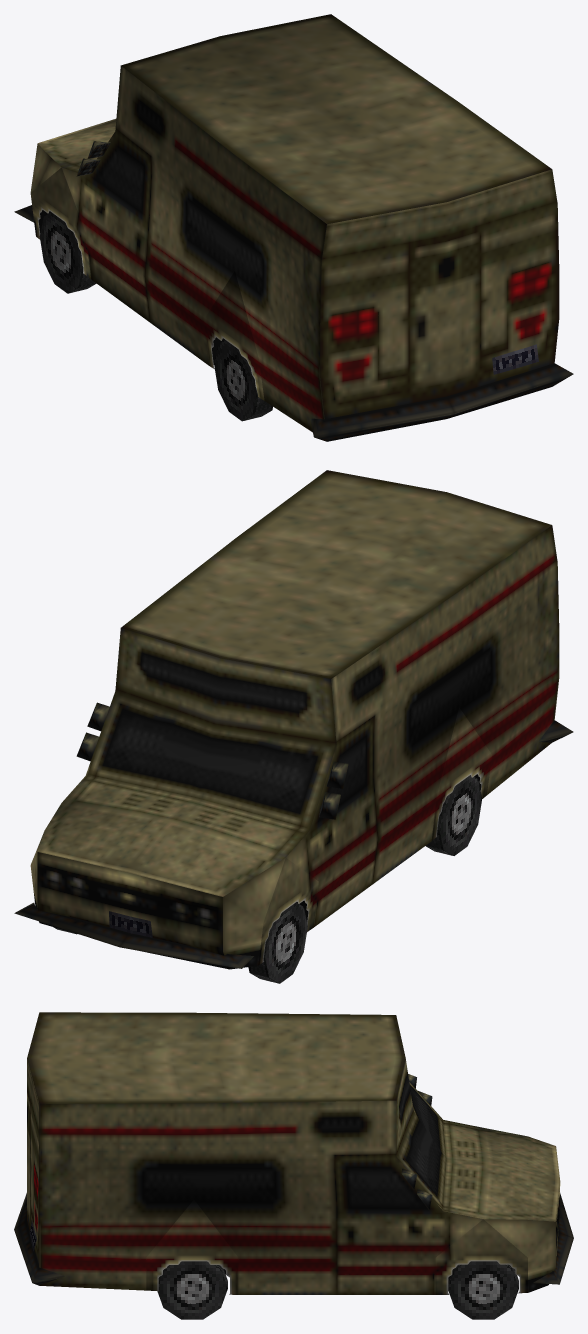
File: Car6.fbx
3 views of the same model, one above another, from view 1: azimuth 30°, elevation 25°; view 2: azimuth 150°, elevation 25°; view 3: azimuth 270°, elevation 25° (orthographic). The views are drawn at different scales.
Parts seen in each view (by area): view 1: CamperVan, Tire.014, Tire.013, LicensePlate.004; view 2: CamperVan, Tire.013, Tire.014, LicensePlate.004; view 3: CamperVan, Tire.016, Tire.015.
Boxes of the visible parts, x1,y1,x2,y2 form: CamperVan: (14,14,573,441); Tire.014: (214,340,272,421); Tire.013: (39,212,96,293); LicensePlate.004: (492,344,538,374); CamperVan: (14,470,573,969); Tire.013: (248,902,307,983); Tire.014: (426,775,481,855); LicensePlate.004: (109,911,152,937); CamperVan: (14,1012,573,1294); Tire.016: (448,1261,518,1319); Tire.015: (157,1261,227,1319).
Size of the model in its own units: 330 by 315 by 737.
3 materials, 3 textured.
